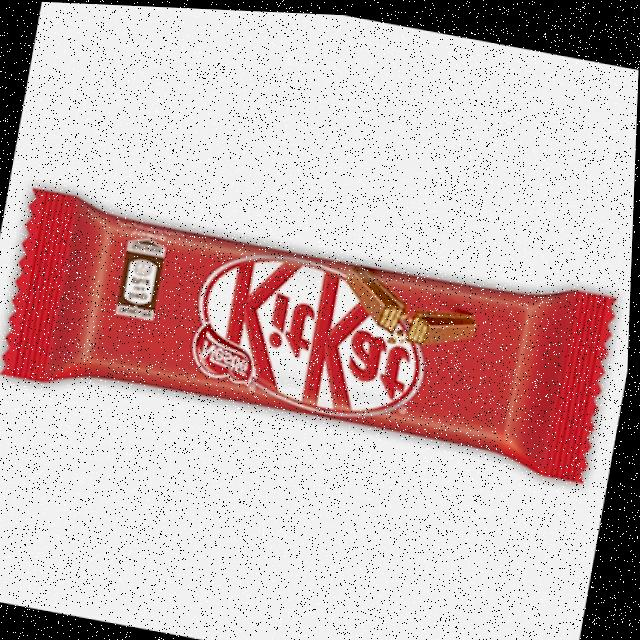kitkat: (0, 187, 624, 484)
